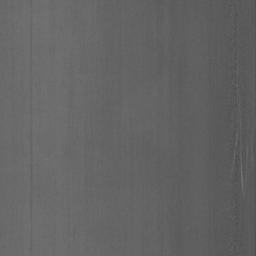Silk spot: (230, 125, 256, 256), (229, 0, 240, 50), (230, 60, 241, 90), (231, 193, 240, 226), (255, 48, 256, 91), (255, 0, 256, 40)
